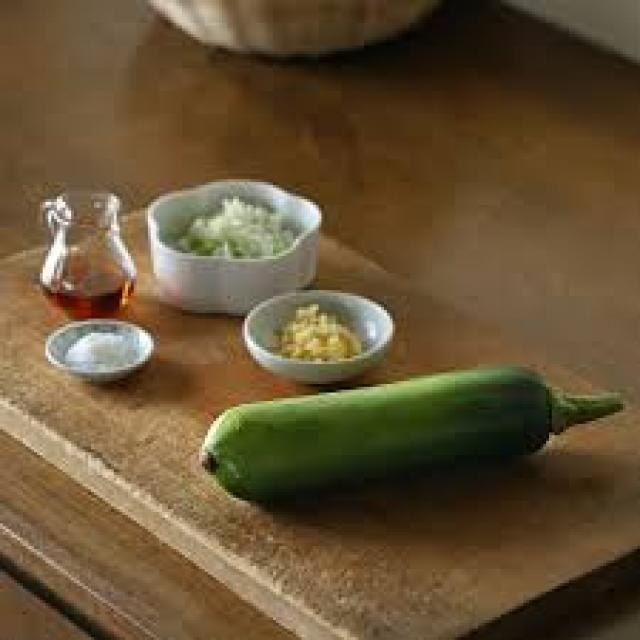Yogurt cup: (196, 358, 632, 515)
